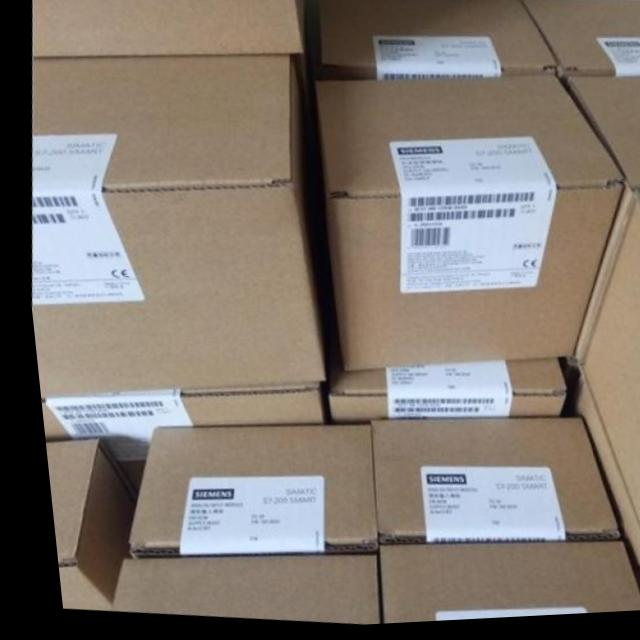box: (25, 60, 319, 400), (311, 79, 619, 375), (33, 386, 318, 504), (113, 427, 365, 555), (360, 420, 609, 547), (558, 82, 640, 374), (571, 200, 640, 544), (366, 548, 631, 627), (317, 0, 557, 85), (99, 558, 365, 626), (556, 383, 640, 587), (30, 0, 304, 59), (36, 438, 125, 610), (319, 364, 557, 426), (518, 1, 640, 82)
